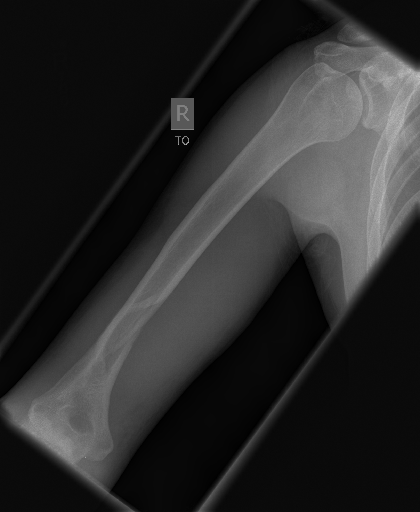fracture: (85, 286, 176, 376)
